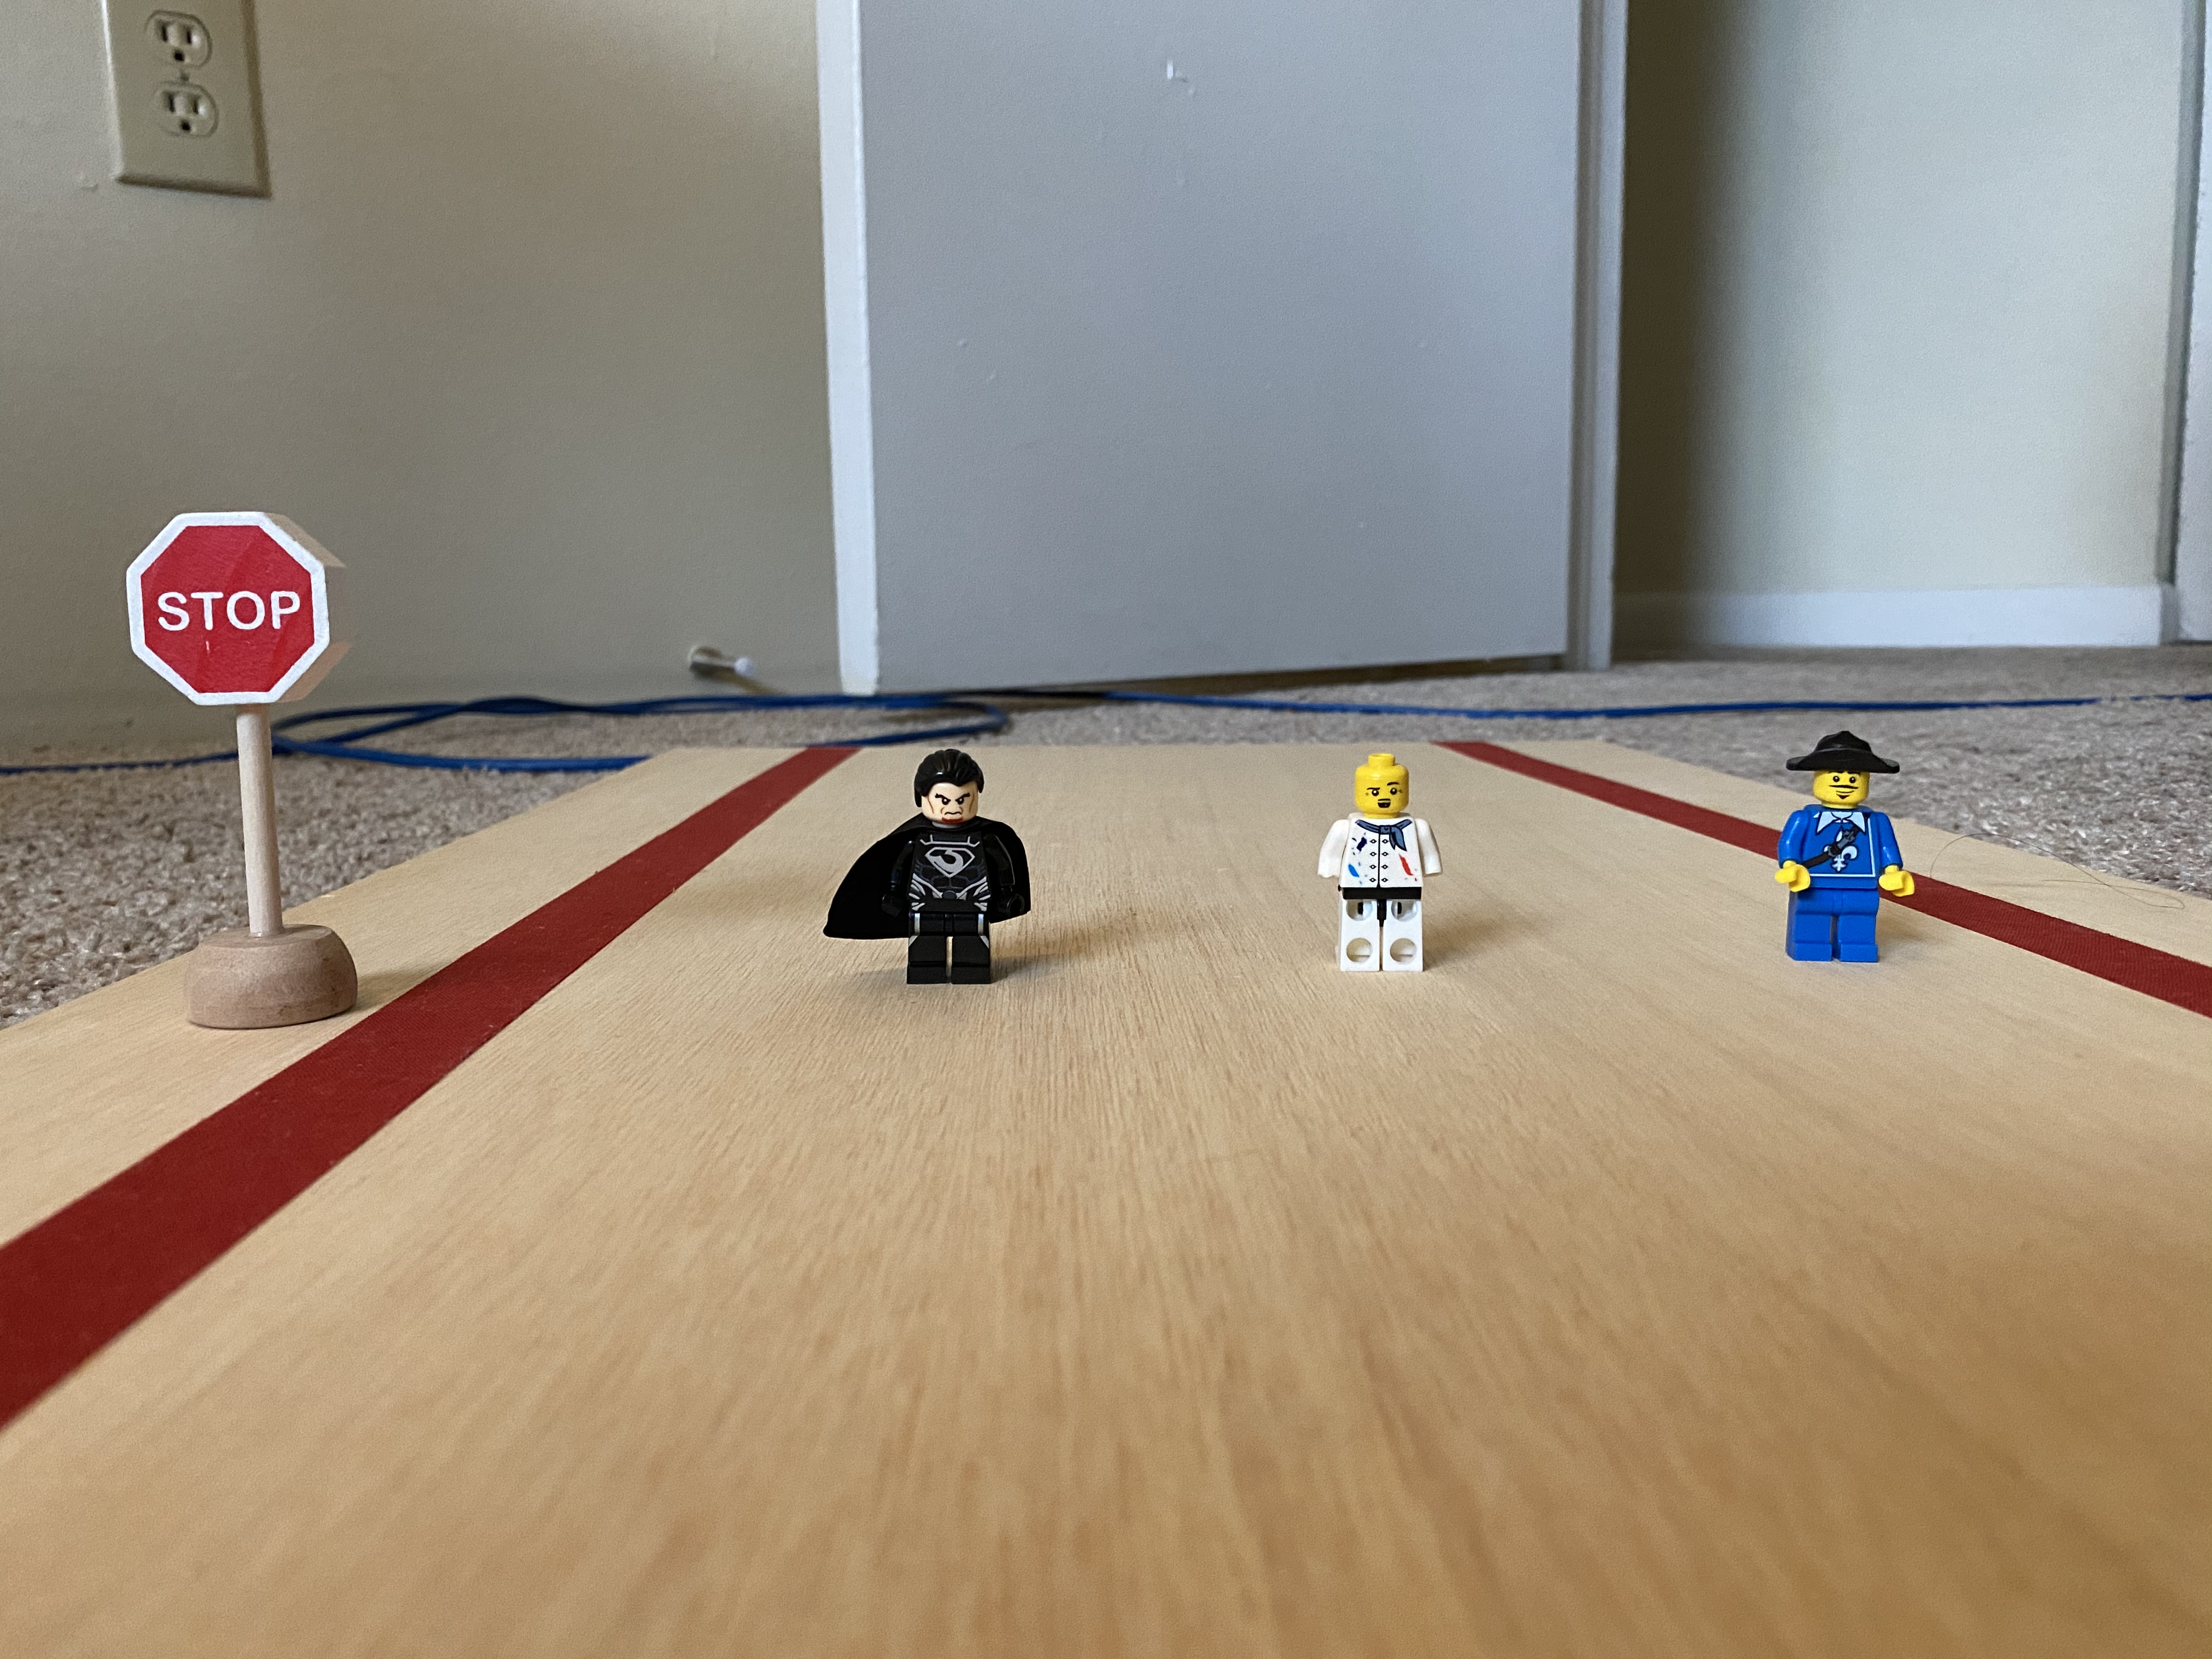Person: (822, 733, 1060, 1012), (1289, 738, 1481, 998), (1755, 720, 1929, 971)
Stop Sign: (109, 495, 356, 720)
